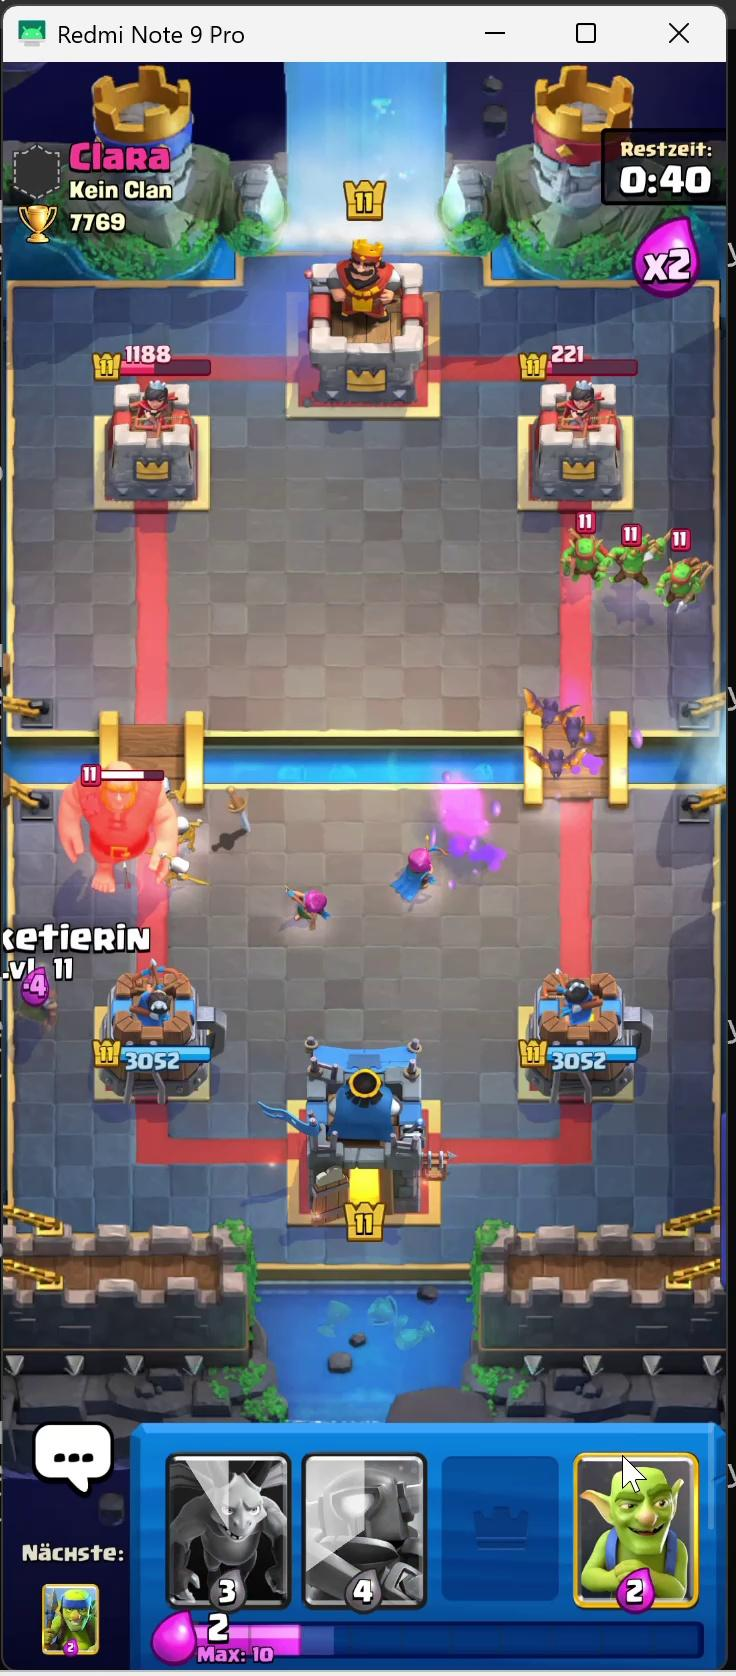archere: (401, 838, 440, 899), (287, 882, 327, 940)
bat: (542, 747, 571, 787), (563, 713, 586, 760), (537, 689, 557, 730)
geant: (58, 775, 172, 898)
gobelin_lances: (662, 553, 717, 606), (609, 526, 651, 578), (569, 530, 602, 578)
mousquetaire: (9, 961, 53, 1030)
squelette: (163, 809, 199, 849), (167, 857, 202, 890), (154, 766, 174, 807)
